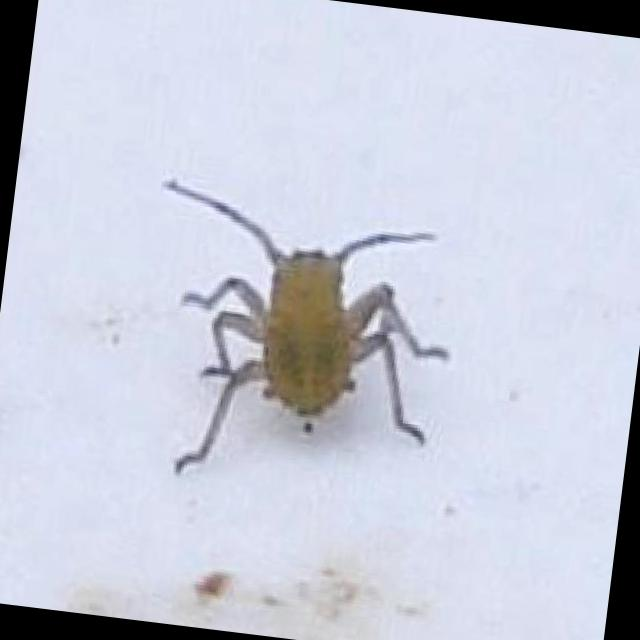aphid: (140, 154, 472, 494)
